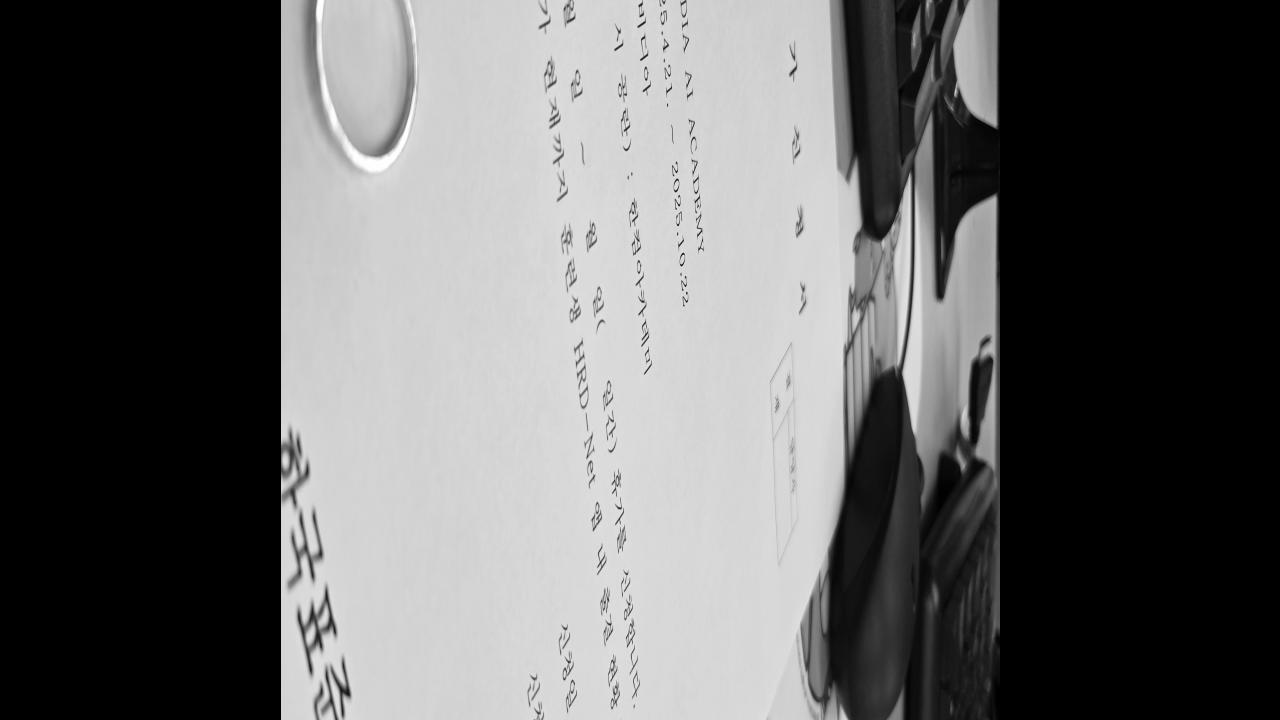ring: (309, 0, 417, 175)
